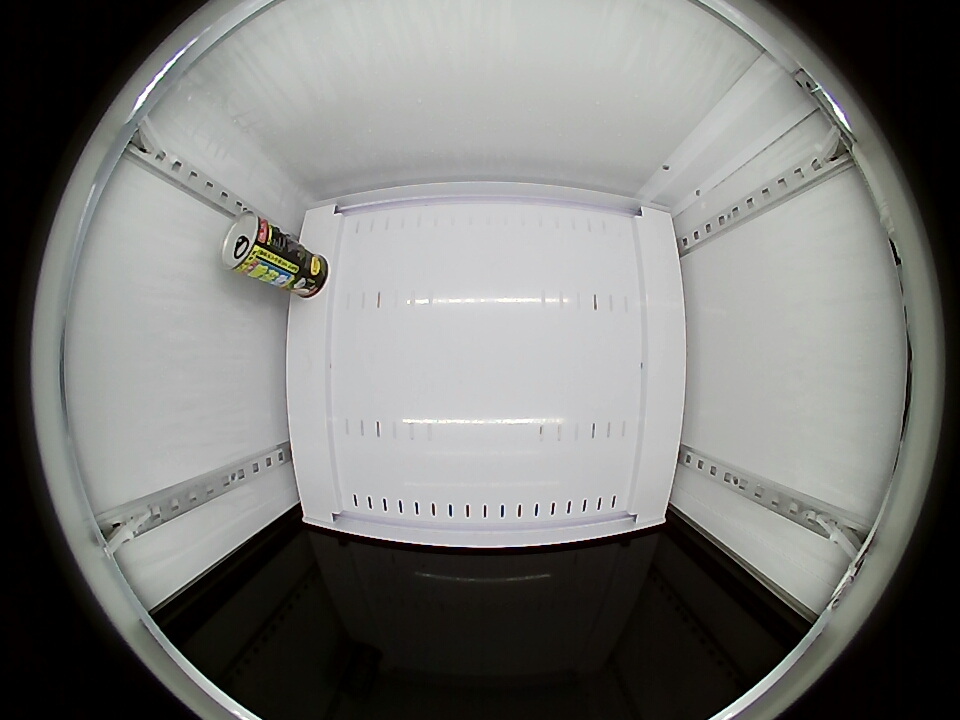yezhi: (221, 212, 277, 277)
